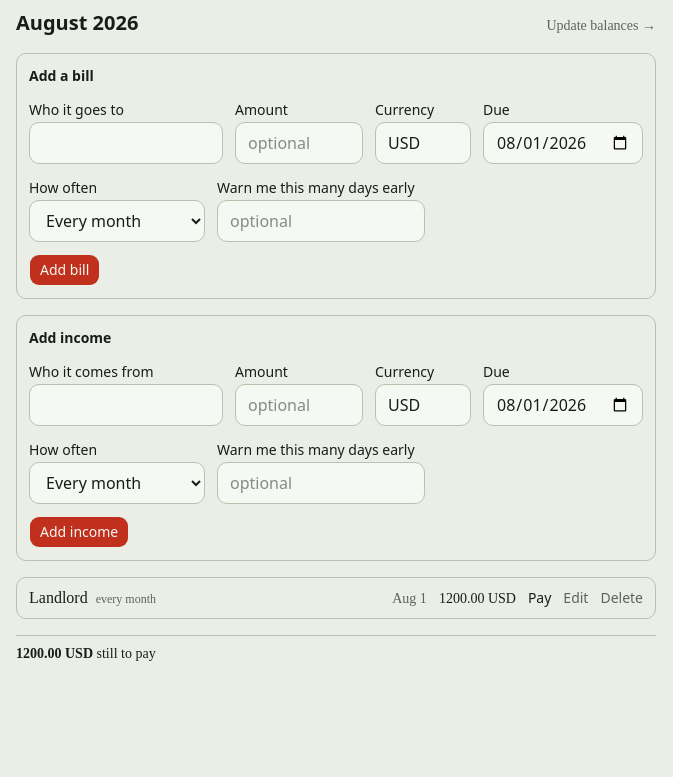
MoneyRoute › lets an edit be abandoned
Click the button with aria-label "Edit Landlord".
click(576, 598)  # box [563,588,588,608]
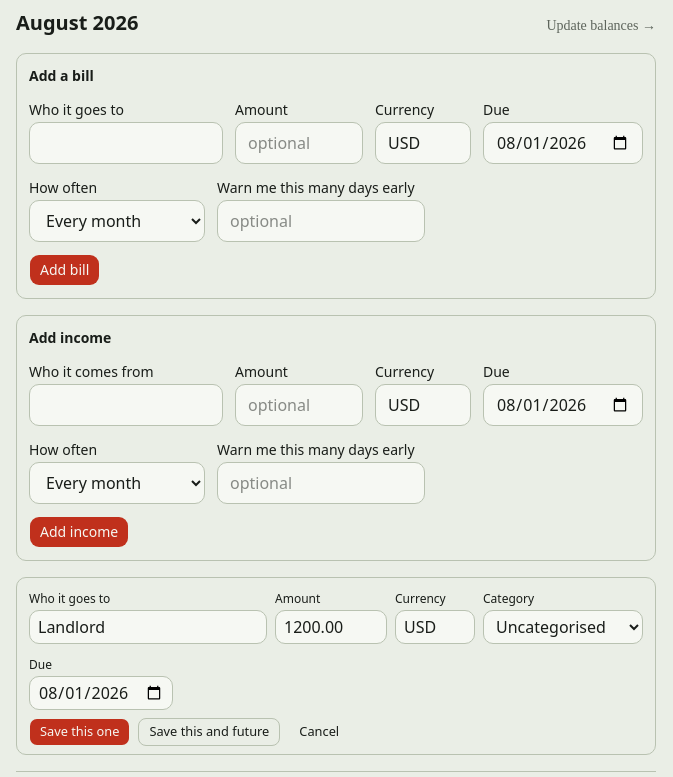
Expected: the field labelled "Who it goes to" below "Category" is shown, [29,610,267,644]
Click the button "Cancel".
click(319, 732)  # box [288,718,350,746]
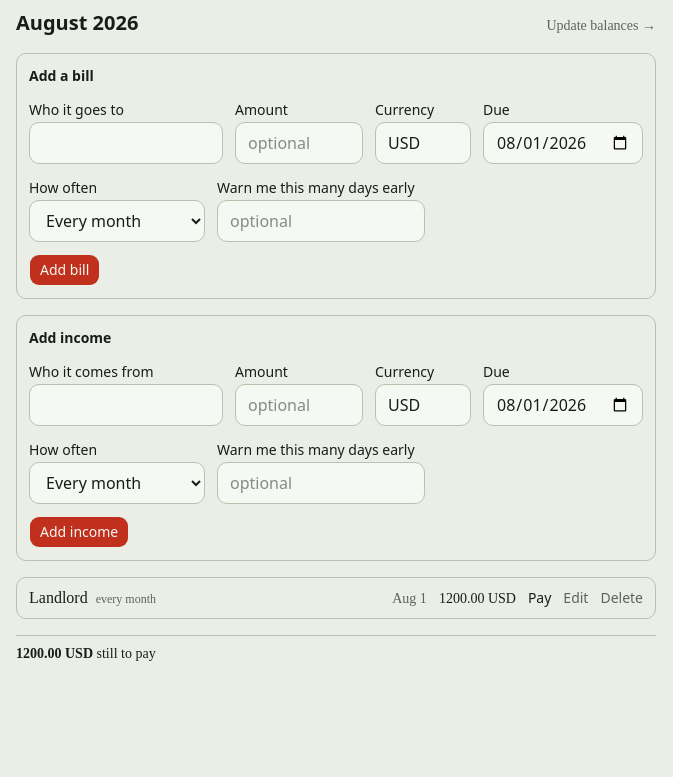
Expected: the button with aria-label "Edit Landlord" is shown, [563,588,588,608]
